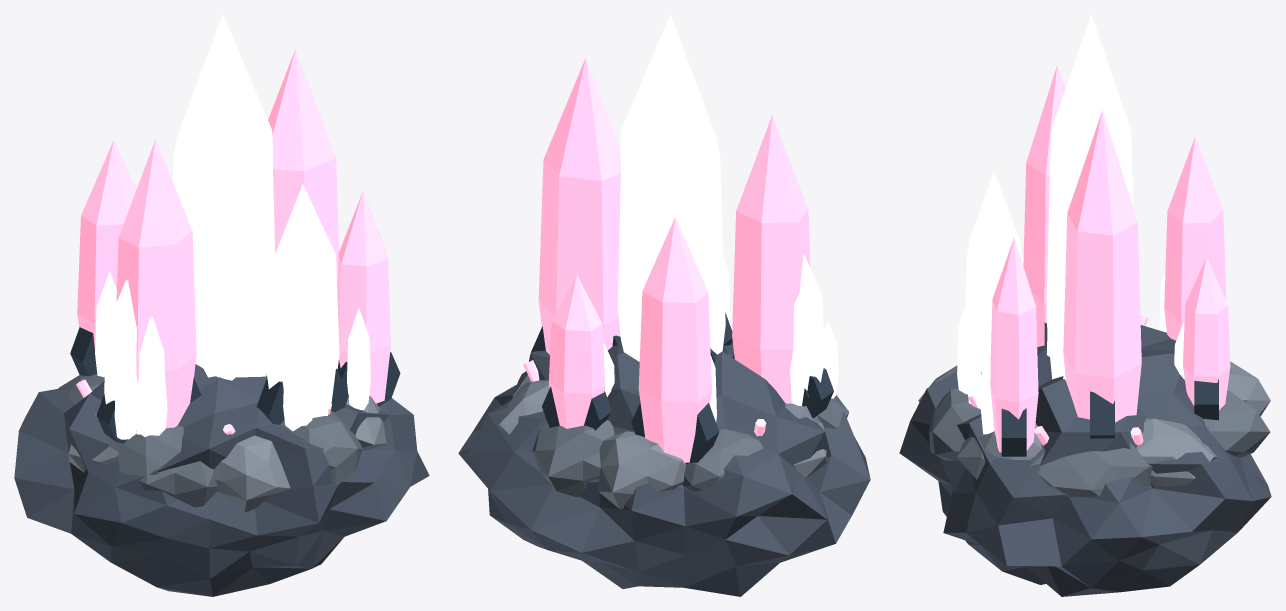
File: ore_Endurium_detail.glb
3 renders of one model, left to right at view 1: azimuth 30°, elevation 25°; view 2: azimuth 150°, elevation 25°; view 3: azimuth 270°, elevation 25°, orthographic.
Parts seen in each view (by area): view 1: root_fractured_asteroid, crystal_main_0, crystal_main_1, crystal_main_3, crystal_main_2, crystal_main_5, crystal_main_4, rock_armor_4, rock_armor_3, facet_spark_1, crystal_main_6, rock_armor_2 (+12 smaller); view 2: root_fractured_asteroid, crystal_main_0, crystal_main_2, crystal_main_1, crystal_main_4, crystal_main_7, rock_armor_7, rock_armor_8, crystal_main_6, rock_armor_6, rock_armor_9, crystal_socket_4 (+5 smaller); view 3: root_fractured_asteroid, crystal_main_2, crystal_main_0, crystal_main_4, crystal_main_5, crystal_main_3, crystal_main_1, crystal_main_7, rock_armor_0, rock_armor_9, rock_armor_8, rock_armor_2 (+7 smaller).
Boxes of the visible parts, box(x1,y1,x2,y2) form: root_fractured_asteroid: box(14, 364, 429, 596); crystal_main_0: box(172, 14, 275, 377); crystal_main_1: box(116, 139, 196, 428); crystal_main_3: box(266, 184, 339, 417); crystal_main_2: box(268, 49, 339, 288); crystal_main_5: box(337, 191, 390, 403); crystal_main_4: box(77, 140, 136, 350); rock_armor_4: box(117, 425, 217, 507); rock_armor_3: box(214, 435, 290, 512); facet_spark_1: box(136, 316, 167, 436); crystal_main_6: box(104, 279, 138, 435); rock_armor_2: box(280, 411, 362, 487); root_fractured_asteroid: box(458, 341, 870, 596); crystal_main_0: box(617, 14, 725, 361); crystal_main_2: box(538, 57, 620, 354); crystal_main_1: box(732, 115, 810, 403); crystal_main_4: box(638, 217, 711, 462); crystal_main_7: box(548, 275, 605, 428); rock_armor_7: box(598, 431, 685, 509); rock_armor_8: box(532, 420, 614, 497); crystal_main_6: box(790, 254, 824, 405); rock_armor_6: box(682, 429, 763, 491); rock_armor_9: box(497, 380, 549, 434); crystal_socket_4: box(631, 402, 719, 463); root_fractured_asteroid: box(899, 325, 1271, 596); crystal_main_2: box(1063, 110, 1141, 422); crystal_main_0: box(1046, 14, 1133, 379); crystal_main_4: box(1164, 136, 1226, 340); crystal_main_5: box(990, 237, 1038, 452); crystal_main_3: box(964, 171, 1021, 408); crystal_main_1: box(1023, 65, 1065, 346); crystal_main_7: box(1183, 257, 1230, 410); rock_armor_0: box(1029, 442, 1152, 496); rock_armor_9: box(1136, 418, 1217, 486); rock_armor_8: box(1203, 390, 1270, 457); rock_armor_2: box(929, 388, 980, 460).
Size of the model in its own units: 1.83 by 2.71 by 1.64.
